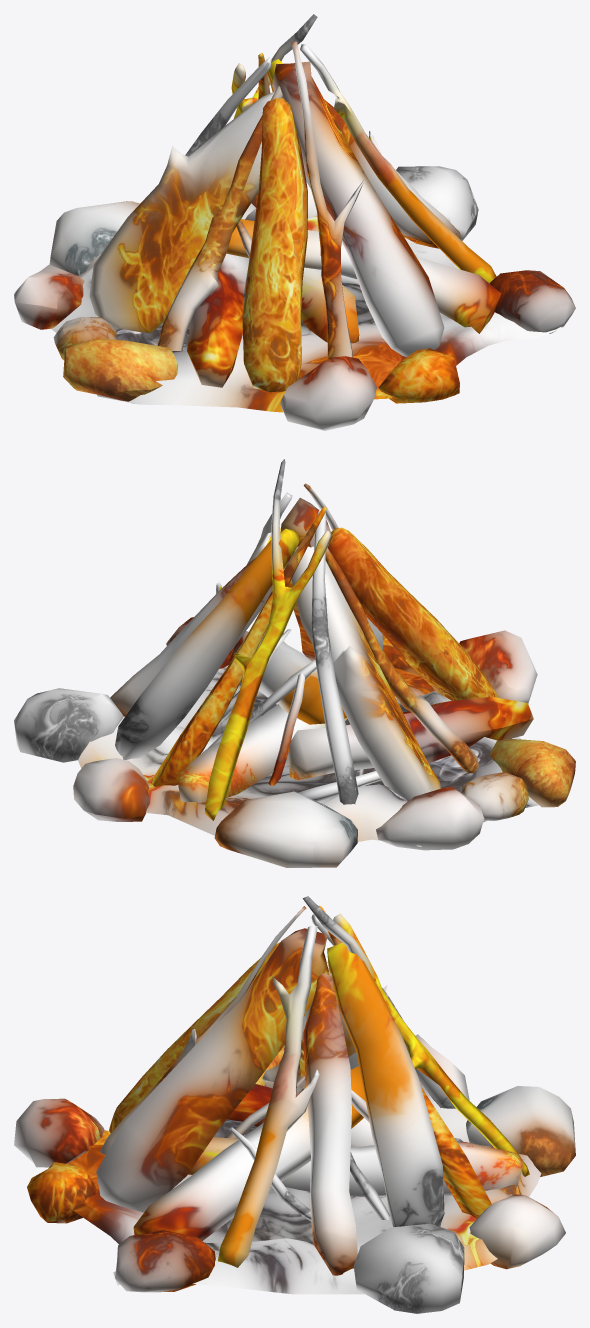
File: campfire.obj
The picture shows the model from 3 angles, top to bottom: view 1: azimuth 30°, elevation 25°; view 2: azimuth 150°, elevation 25°; view 3: azimuth 270°, elevation 25°; orthographic projection. The views are drawn at different scales.
Visible parts, largest first — view 1: Campfire; view 2: Campfire; view 3: Campfire.
Boxes of the visible parts, box(x1,y1,x2,y2) form: Campfire: box(14, 14, 575, 430); Campfire: box(14, 459, 575, 867); Campfire: box(14, 896, 575, 1313).
Size of the model in its own units: 97.99 by 60.11 by 94.05.
Materials: 1 (1 with a texture image).
